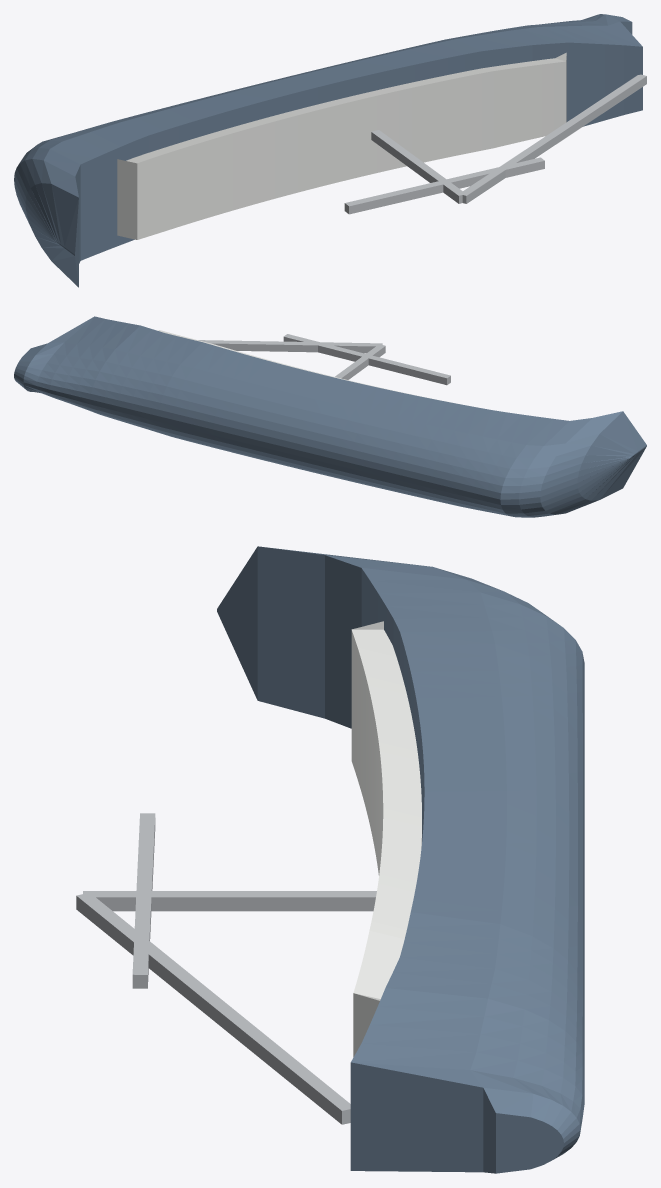
The model's file is loft-tessarakonteres-sheered.glb.
3 views of the same model, one above another, from view 1: azimuth 30°, elevation 25°; view 2: azimuth 150°, elevation 25°; view 3: azimuth 270°, elevation 25° (orthographic). The views are drawn at different scales.
Visible parts, largest first — view 1: loft-tessarakonteres-sheered; view 2: loft-tessarakonteres-sheered; view 3: loft-tessarakonteres-sheered.
Boxes of the visible parts, <box> form: loft-tessarakonteres-sheered: <box>14,14,646,287</box>; loft-tessarakonteres-sheered: <box>14,316,646,517</box>; loft-tessarakonteres-sheered: <box>76,546,584,1173</box>.
Size of the model in its own units: 1.98 by 0.294 by 0.798.
